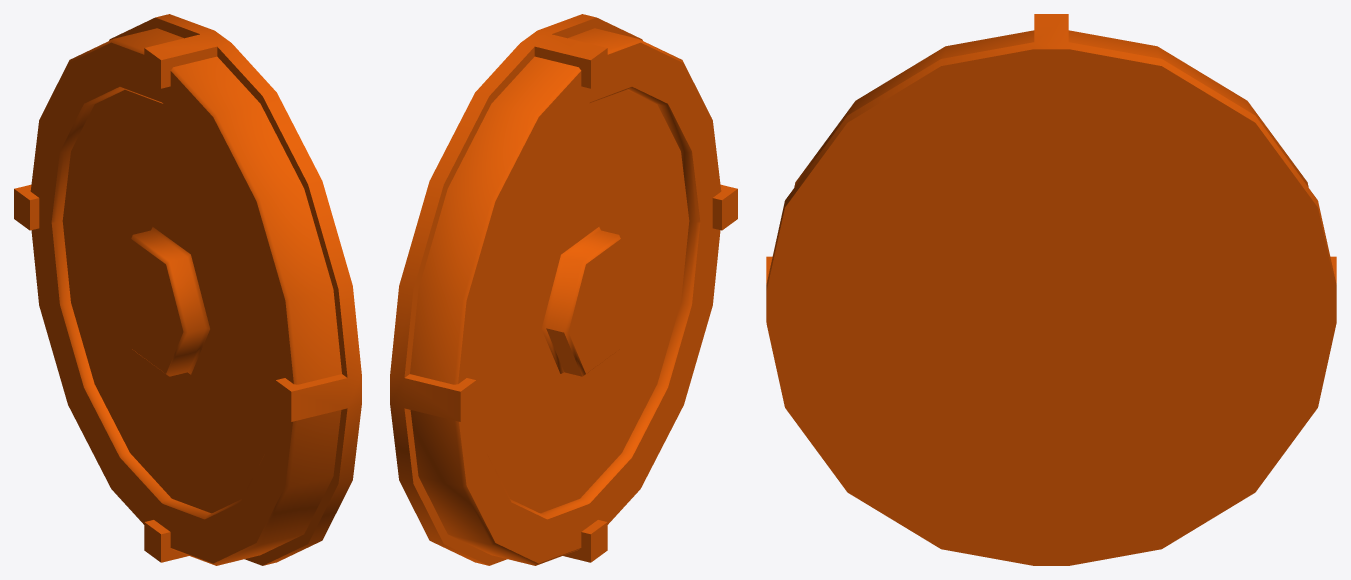
Rendered from PVC_D160_TRC.FBX.
3 views of the same model, side by side, from view 1: azimuth 30°, elevation 25°; view 2: azimuth 150°, elevation 25°; view 3: azimuth 270°, elevation 25° (orthographic). The views are drawn at different scales.
Parts seen in each view (by area): view 1: PVC_D160_TRC; view 2: PVC_D160_TRC; view 3: PVC_D160_TRC.
Boxes of the visible parts, x1,y1,x2,y2 form: PVC_D160_TRC: [14, 14, 361, 565]; PVC_D160_TRC: [390, 14, 737, 565]; PVC_D160_TRC: [766, 14, 1336, 565].
Size of the model in its own units: 2.84 by 18.29 by 18.29.
